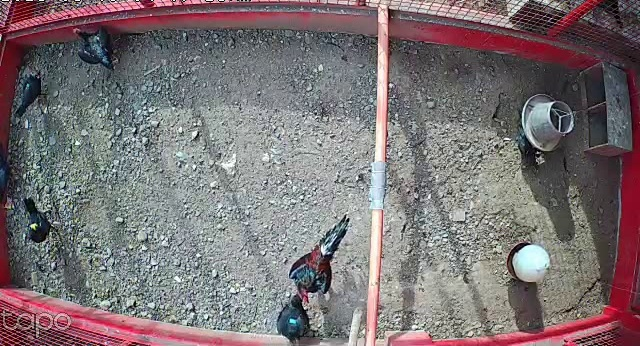Chicken: (274, 291, 316, 344), (22, 193, 62, 248), (73, 24, 118, 72), (515, 106, 544, 173), (13, 70, 53, 117)
Rooster: (286, 214, 353, 305)
Saddle_Color_Blue: (289, 318, 297, 325)
Saddle_Color_Yellow: (30, 221, 39, 230)
